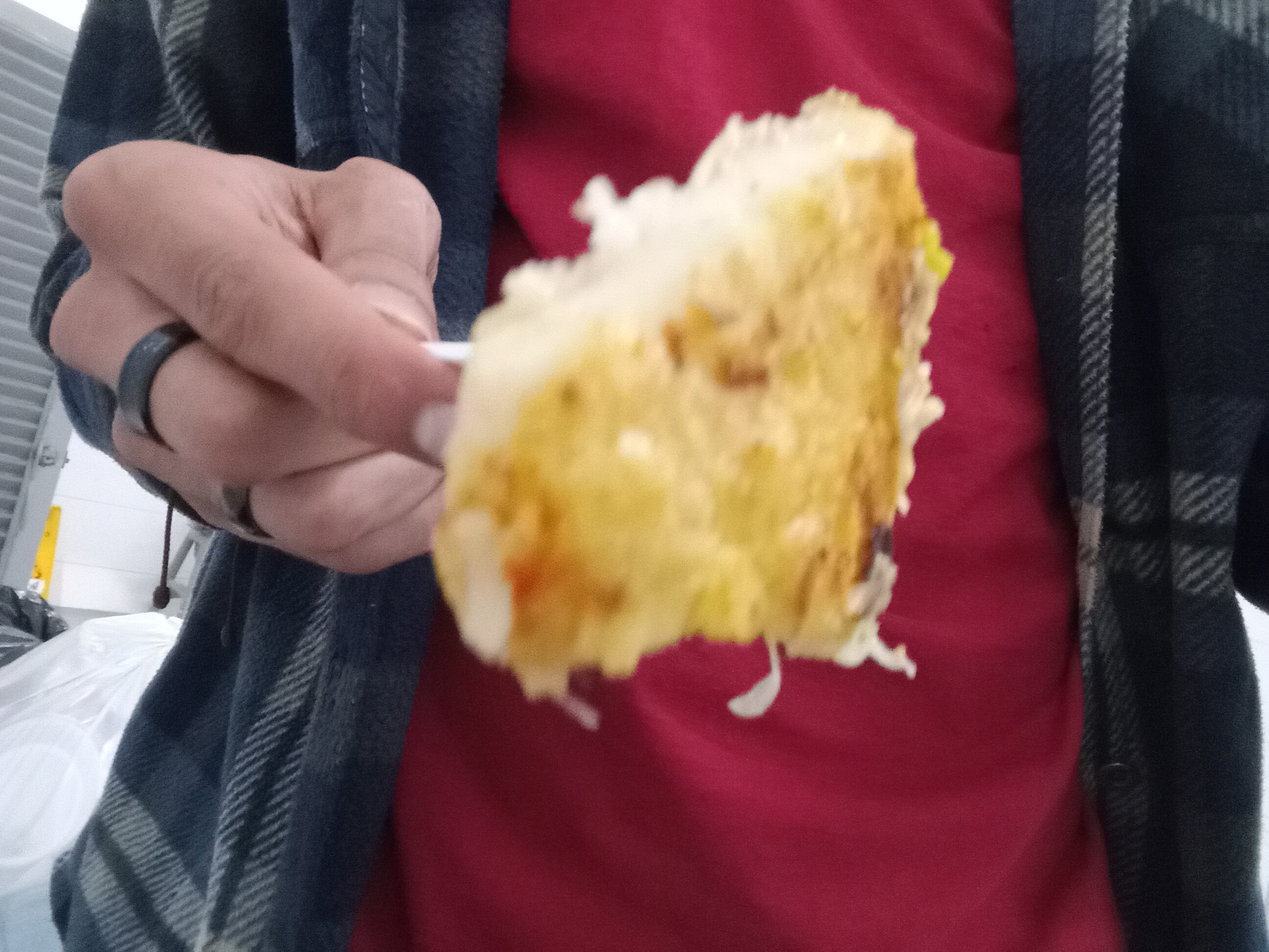Organico: (433, 86, 954, 734)
